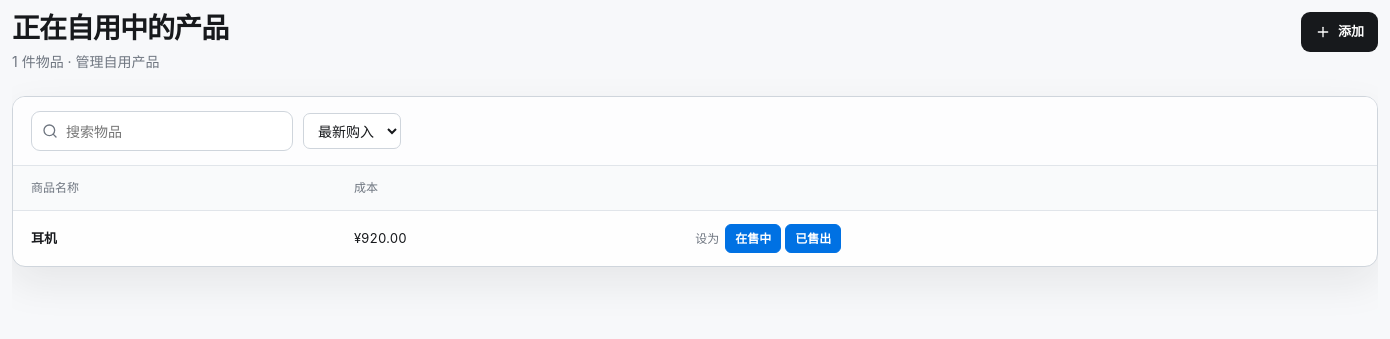
Test: SelfUsePage › shows an error instead of a success notice when listing returns a failed item
Click the button with aria-label "设置 耳机 为在售中": [753, 238] box left=725, top=224, right=781, bottom=253
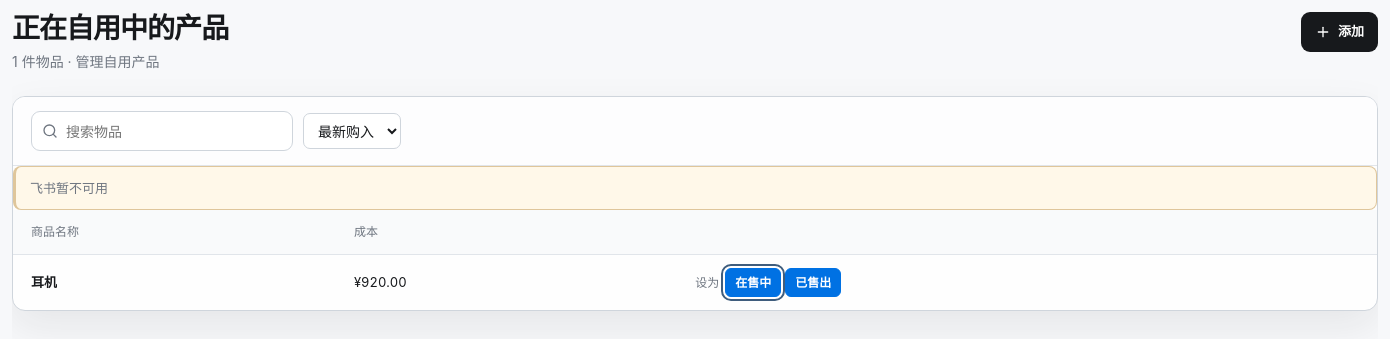
Result: the message reads "飞书暂不可用" at left=30, top=180, right=108, bottom=196
